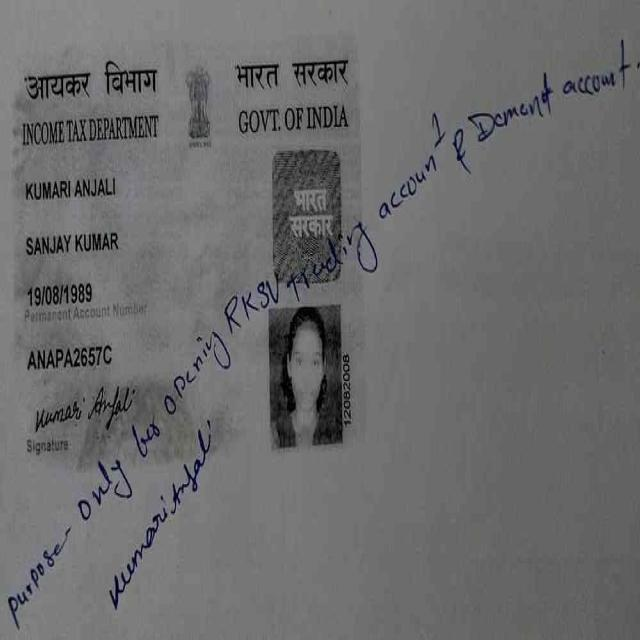pan_card: (13, 38, 363, 472)
